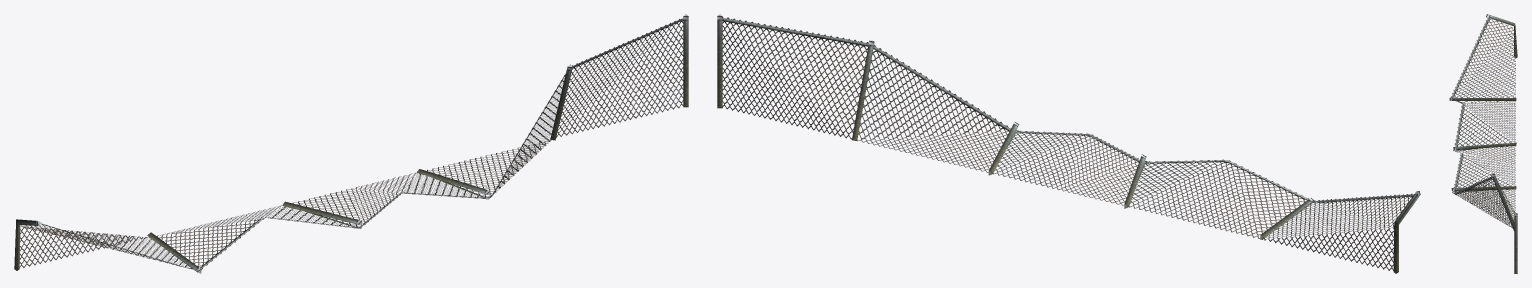
File: fence10m.fbx
3 views of the same model, side by side, from view 1: azimuth 30°, elevation 25°; view 2: azimuth 150°, elevation 25°; view 3: azimuth 270°, elevation 25° (orthographic). The views are drawn at different scales.
Visible parts, largest first — view 1: mesh_0, mesh_1; view 2: mesh_0, mesh_1; view 3: mesh_0, mesh_1.
Part boxes in pixels (bbox=[...]): mesh_0: bbox=[19, 17, 683, 271]; mesh_1: bbox=[14, 14, 688, 273]; mesh_0: bbox=[722, 17, 1413, 270]; mesh_1: bbox=[717, 14, 1420, 273]; mesh_0: bbox=[1450, 17, 1515, 228]; mesh_1: bbox=[1449, 14, 1517, 273].
Bounding box in the file's own units: 1000 × 133 × 133.
1 material, 1 textured.
